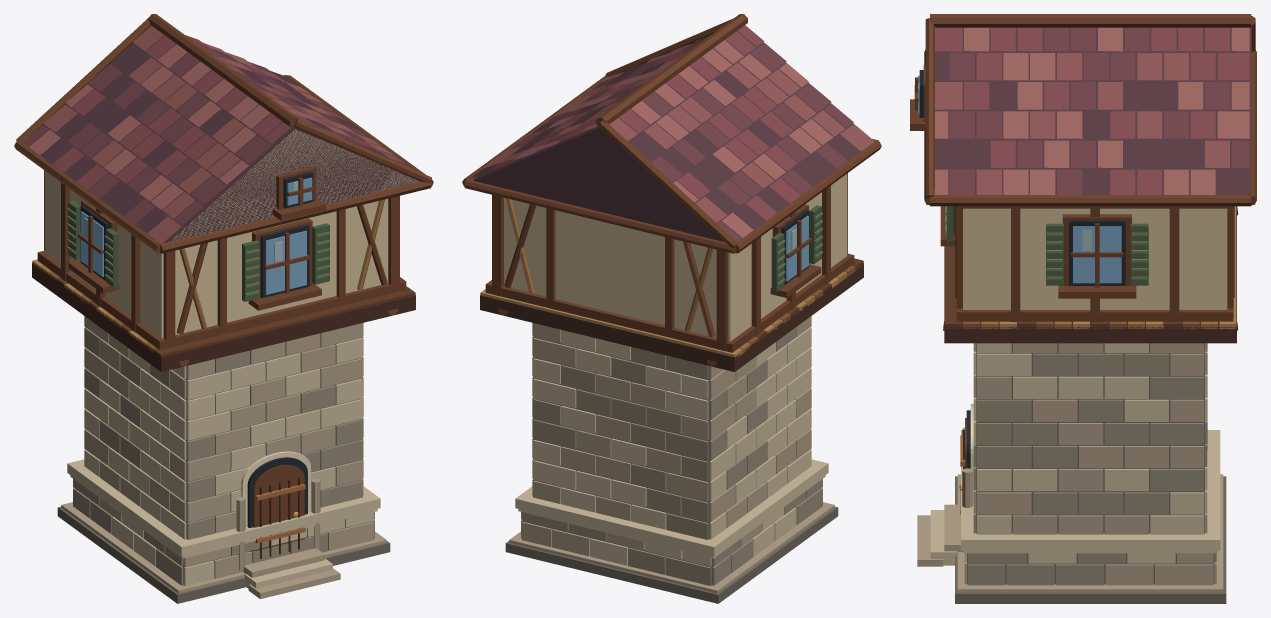
File: watch-nivel-3.glb
3 renders of one model, left to right at view 1: azimuth 30°, elevation 25°; view 2: azimuth 150°, elevation 25°; view 3: azimuth 270°, elevation 25°, orthographic. The views are drawn at different scales.
Parts seen in each view (by area): view 1: Vigia 03 #cebea0, Vigia 03 #70432c, Vigia 03 #b4a38a, Vigia 03 #d5c09b, Vigia 03 #593b44, Vigia 03 #9b8f7c, Vigia 03 #70444a, Vigia 03 #9e645f, Vigia 03 #824a50, Vigia 03 #4c3028, Vigia 03 #8f5655, Vigia 03 #746c62 (+8 smaller); view 2: Vigia 03 #cebea0, Vigia 03 #70432c, Vigia 03 #593b44, Vigia 03 #d5c09b, Vigia 03 #b4a38a, Vigia 03 #9b8f7c, Vigia 03 #70444a, Vigia 03 #9e645f, Vigia 03 #824a50, Vigia 03 #746c62, Vigia 03 #8f5655, Vigia 03 #4c3028 (+4 smaller); view 3: Vigia 03 #70432c, Vigia 03 #b4a38a, Vigia 03 #9b8f7c, Vigia 03 #cebea0, Vigia 03 #d5c09b, Vigia 03 #593b44, Vigia 03 #9e645f, Vigia 03 #824a50, Vigia 03 #70444a, Vigia 03 #746c62, Vigia 03 #8f5655, Vigia 03 #4c3028 (+8 smaller).
Boxes of the visible parts, x1,y1,x2,y2 form: Vigia 03 #cebea0: [67, 323, 380, 588]; Vigia 03 #70432c: [14, 14, 433, 551]; Vigia 03 #b4a38a: [61, 316, 386, 598]; Vigia 03 #d5c09b: [44, 129, 419, 338]; Vigia 03 #593b44: [28, 35, 418, 242]; Vigia 03 #9b8f7c: [73, 327, 374, 585]; Vigia 03 #70444a: [22, 48, 413, 224]; Vigia 03 #9e645f: [29, 43, 394, 209]; Vigia 03 #824a50: [52, 35, 379, 189]; Vigia 03 #4c3028: [32, 263, 415, 558]; Vigia 03 #8f5655: [43, 25, 406, 243]; Vigia 03 #746c62: [57, 337, 390, 603]; Vigia 03 #cebea0: [515, 327, 828, 566]; Vigia 03 #70432c: [462, 14, 881, 366]; Vigia 03 #593b44: [470, 31, 860, 241]; Vigia 03 #d5c09b: [504, 174, 847, 341]; Vigia 03 #b4a38a: [509, 316, 834, 593]; Vigia 03 #9b8f7c: [522, 327, 822, 585]; Vigia 03 #70444a: [490, 41, 853, 241]; Vigia 03 #9e645f: [485, 40, 833, 237]; Vigia 03 #824a50: [508, 25, 800, 220]; Vigia 03 #746c62: [505, 337, 838, 603]; Vigia 03 #8f5655: [499, 43, 874, 222]; Vigia 03 #4c3028: [480, 263, 863, 371]; Vigia 03 #70432c: [910, 14, 1256, 468]; Vigia 03 #b4a38a: [917, 343, 1223, 592]; Vigia 03 #9b8f7c: [967, 353, 1216, 585]; Vigia 03 #cebea0: [930, 343, 1220, 565]; Vigia 03 #d5c09b: [963, 208, 1227, 309]; Vigia 03 #593b44: [934, 27, 1251, 194]; Vigia 03 #9e645f: [934, 27, 1249, 194]; Vigia 03 #824a50: [935, 27, 1249, 194]; Vigia 03 #70444a: [949, 27, 1249, 194]; Vigia 03 #746c62: [955, 343, 1226, 603]; Vigia 03 #8f5655: [935, 53, 1229, 194]; Vigia 03 #4c3028: [944, 206, 1236, 468].
Bounding box in the file's own units: 4.88 × 7.86 × 4.65.
